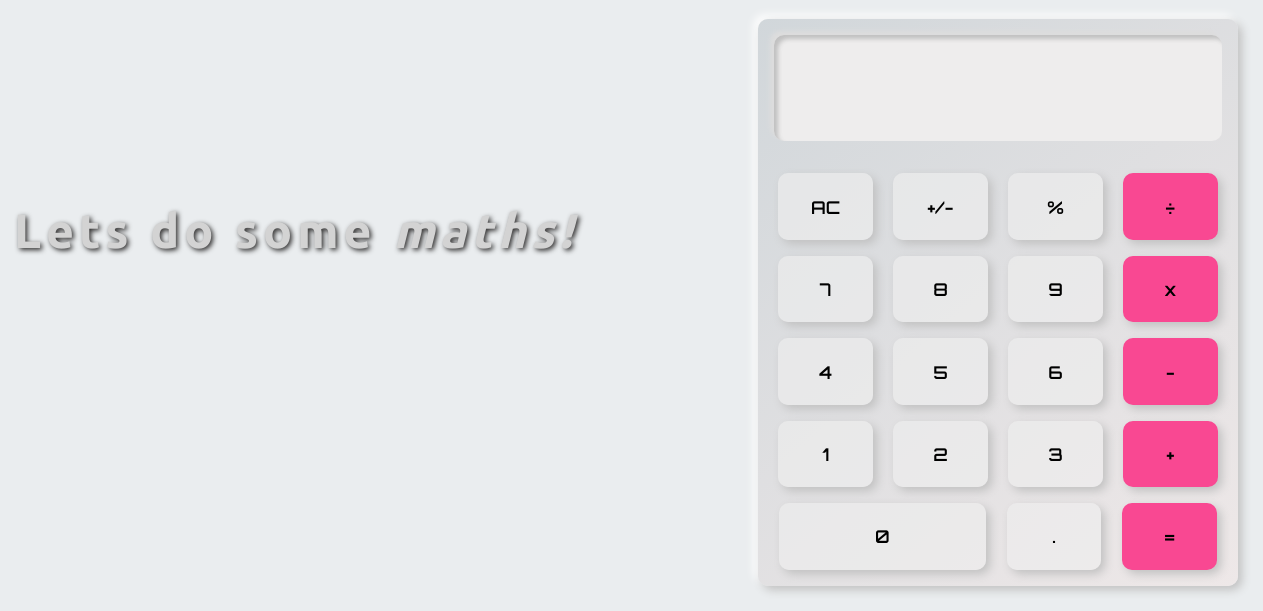
Test: Calculator page › should update display when 0 is clicked
What coordinates should you click on to do the following:
click the button with test id "0"
I would click on:
 (882, 536)
Its box is left=779, top=503, right=986, bottom=570.
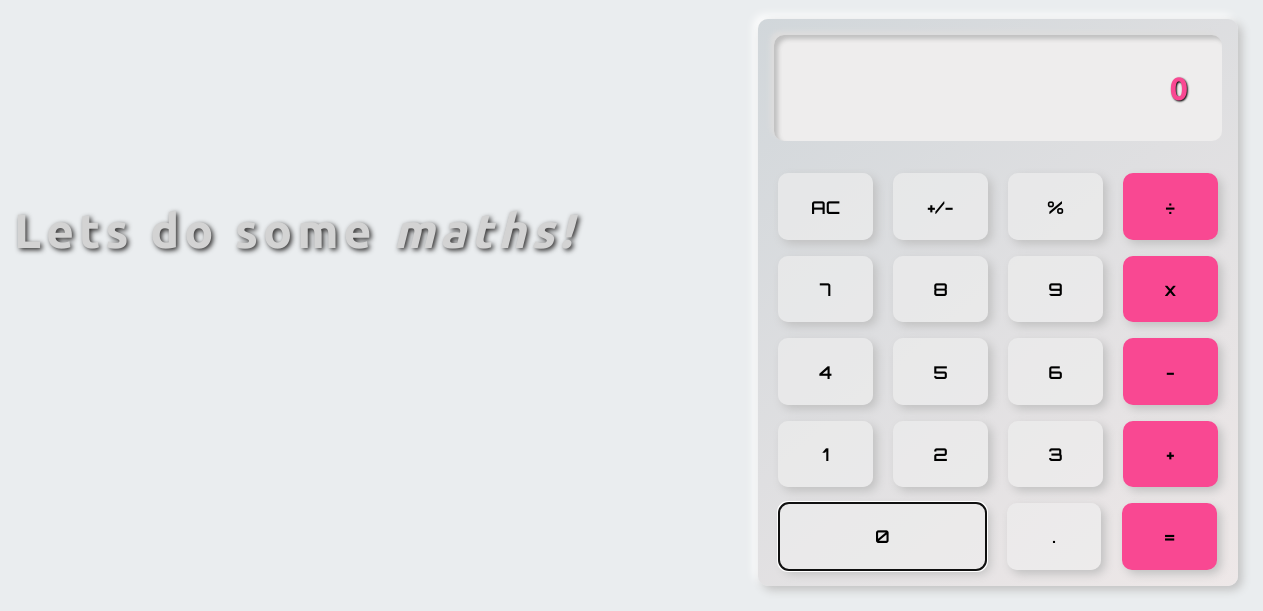
expect the text with test id "display" reads "0": met, box left=1170, top=70, right=1190, bottom=106
